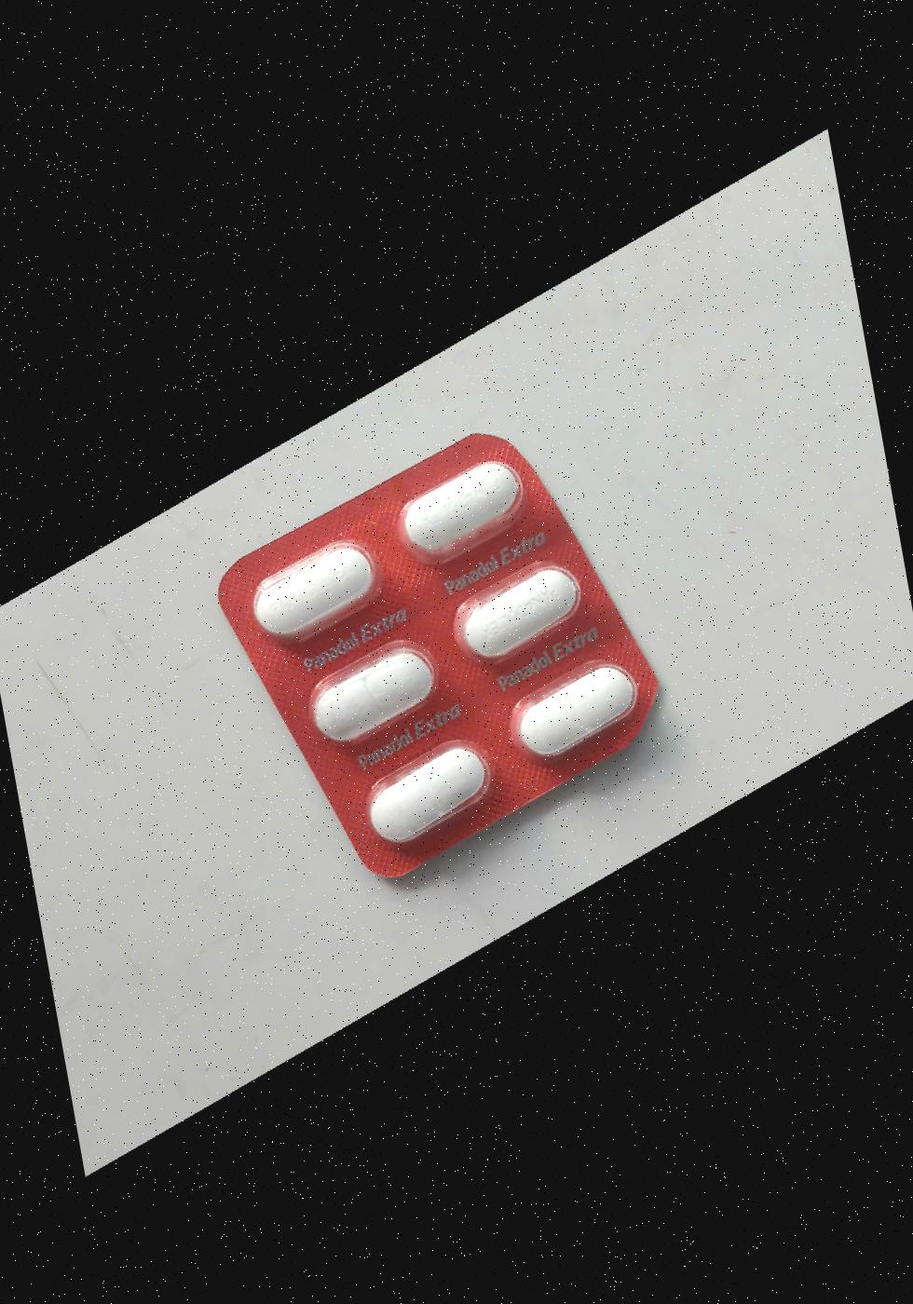Full: (294, 627, 456, 766), (378, 442, 541, 580), (493, 644, 656, 782), (439, 546, 601, 684), (233, 521, 395, 659), (349, 726, 511, 864)
